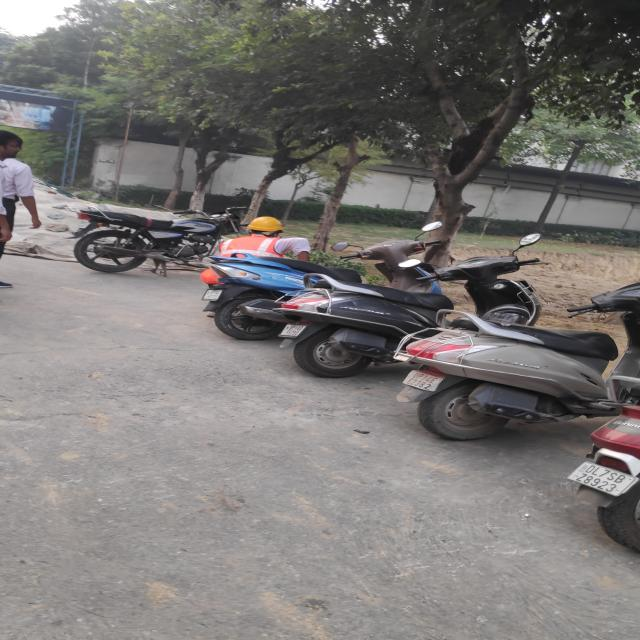safe: (216, 217, 312, 262)
